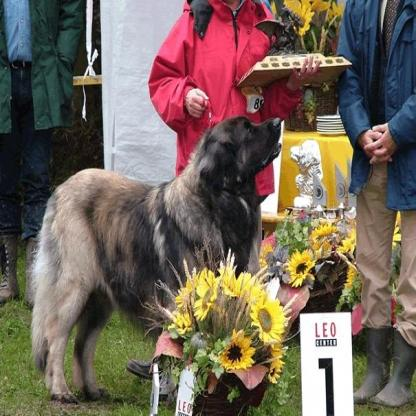Leonberg: (22, 108, 286, 407)
